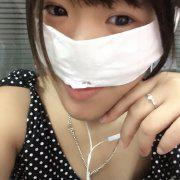WRONG: (36, 1, 156, 119)
